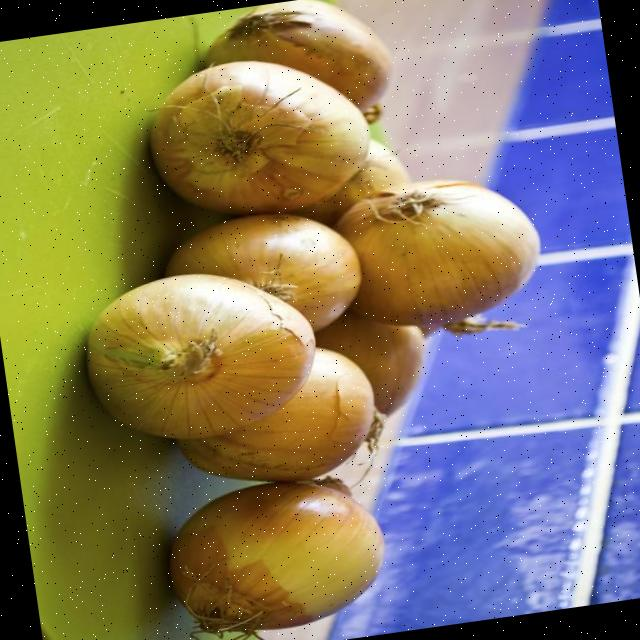Onion: (86, 275, 314, 441), (150, 61, 369, 214), (168, 483, 382, 630), (335, 181, 539, 326), (176, 349, 379, 483), (165, 214, 360, 332), (205, 0, 391, 123), (316, 313, 423, 417), (293, 140, 411, 228)
